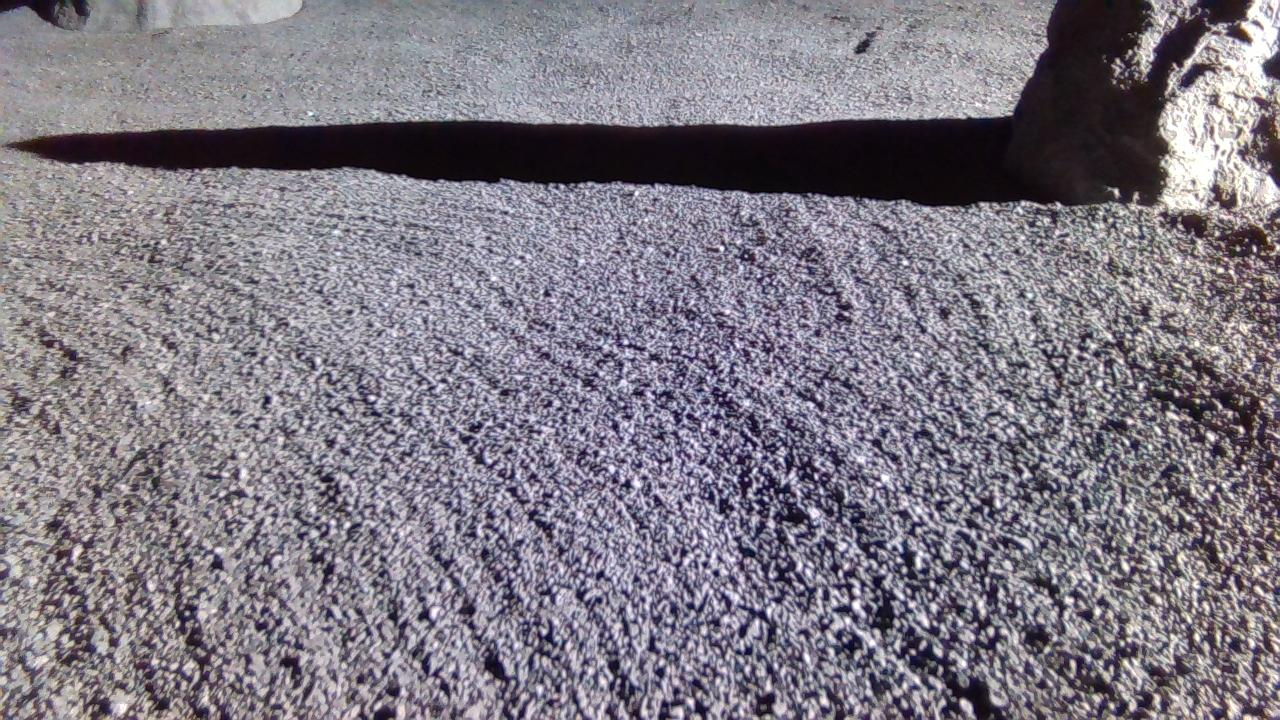rock: (1007, 0, 1280, 208), (41, 0, 301, 30)
